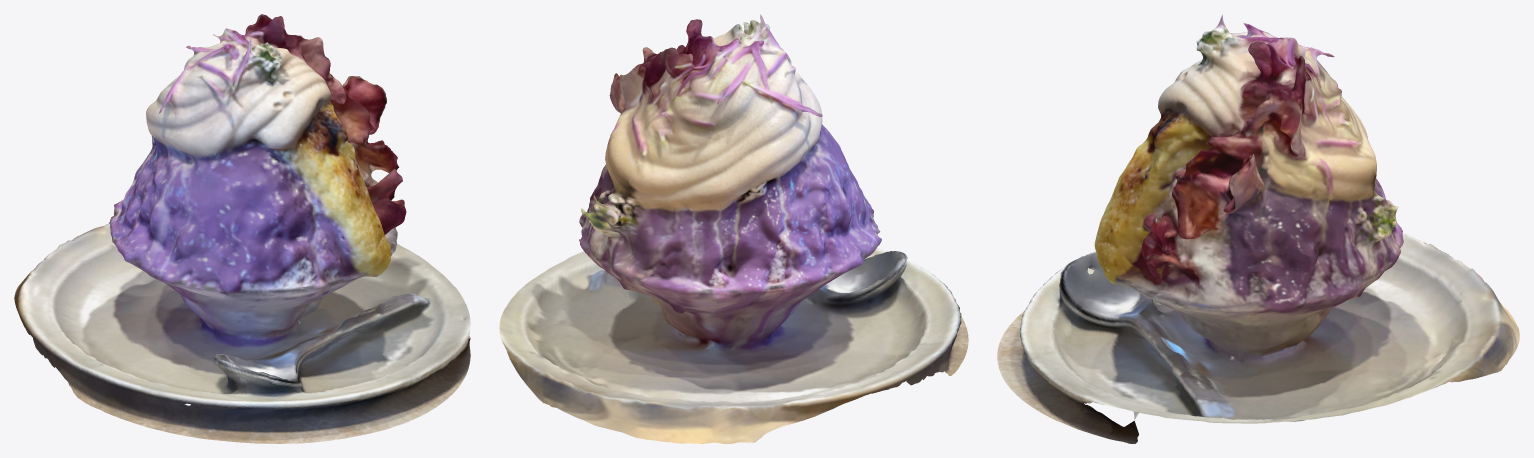
3 renders of one model, left to right at view 1: azimuth 30°, elevation 25°; view 2: azimuth 150°, elevation 25°; view 3: azimuth 270°, elevation 25°, orthographic. The views are drawn at different scales.
Visible parts, largest first — view 1: Object_2, Object_3; view 2: Object_2, Object_3; view 3: Object_2, Object_3.
Boxes of the visible parts, x1,y1,x2,y2 form: Object_2: (14, 14, 470, 443); Object_3: (89, 16, 465, 408); Object_2: (499, 15, 968, 443); Object_3: (556, 14, 956, 443); Object_2: (997, 14, 1519, 443); Object_3: (1057, 16, 1517, 423).
Size of the model in its own units: 0.2549 by 0.2056 by 0.2862.
Materials: 1 (1 with a texture image).
